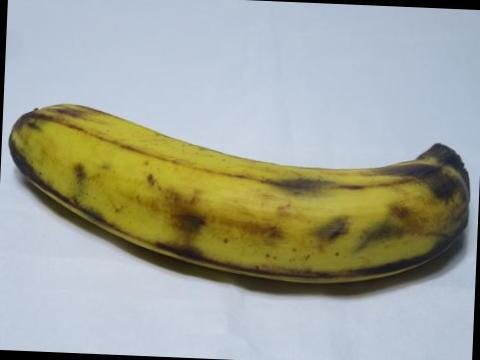overripe: (1, 89, 479, 310)
